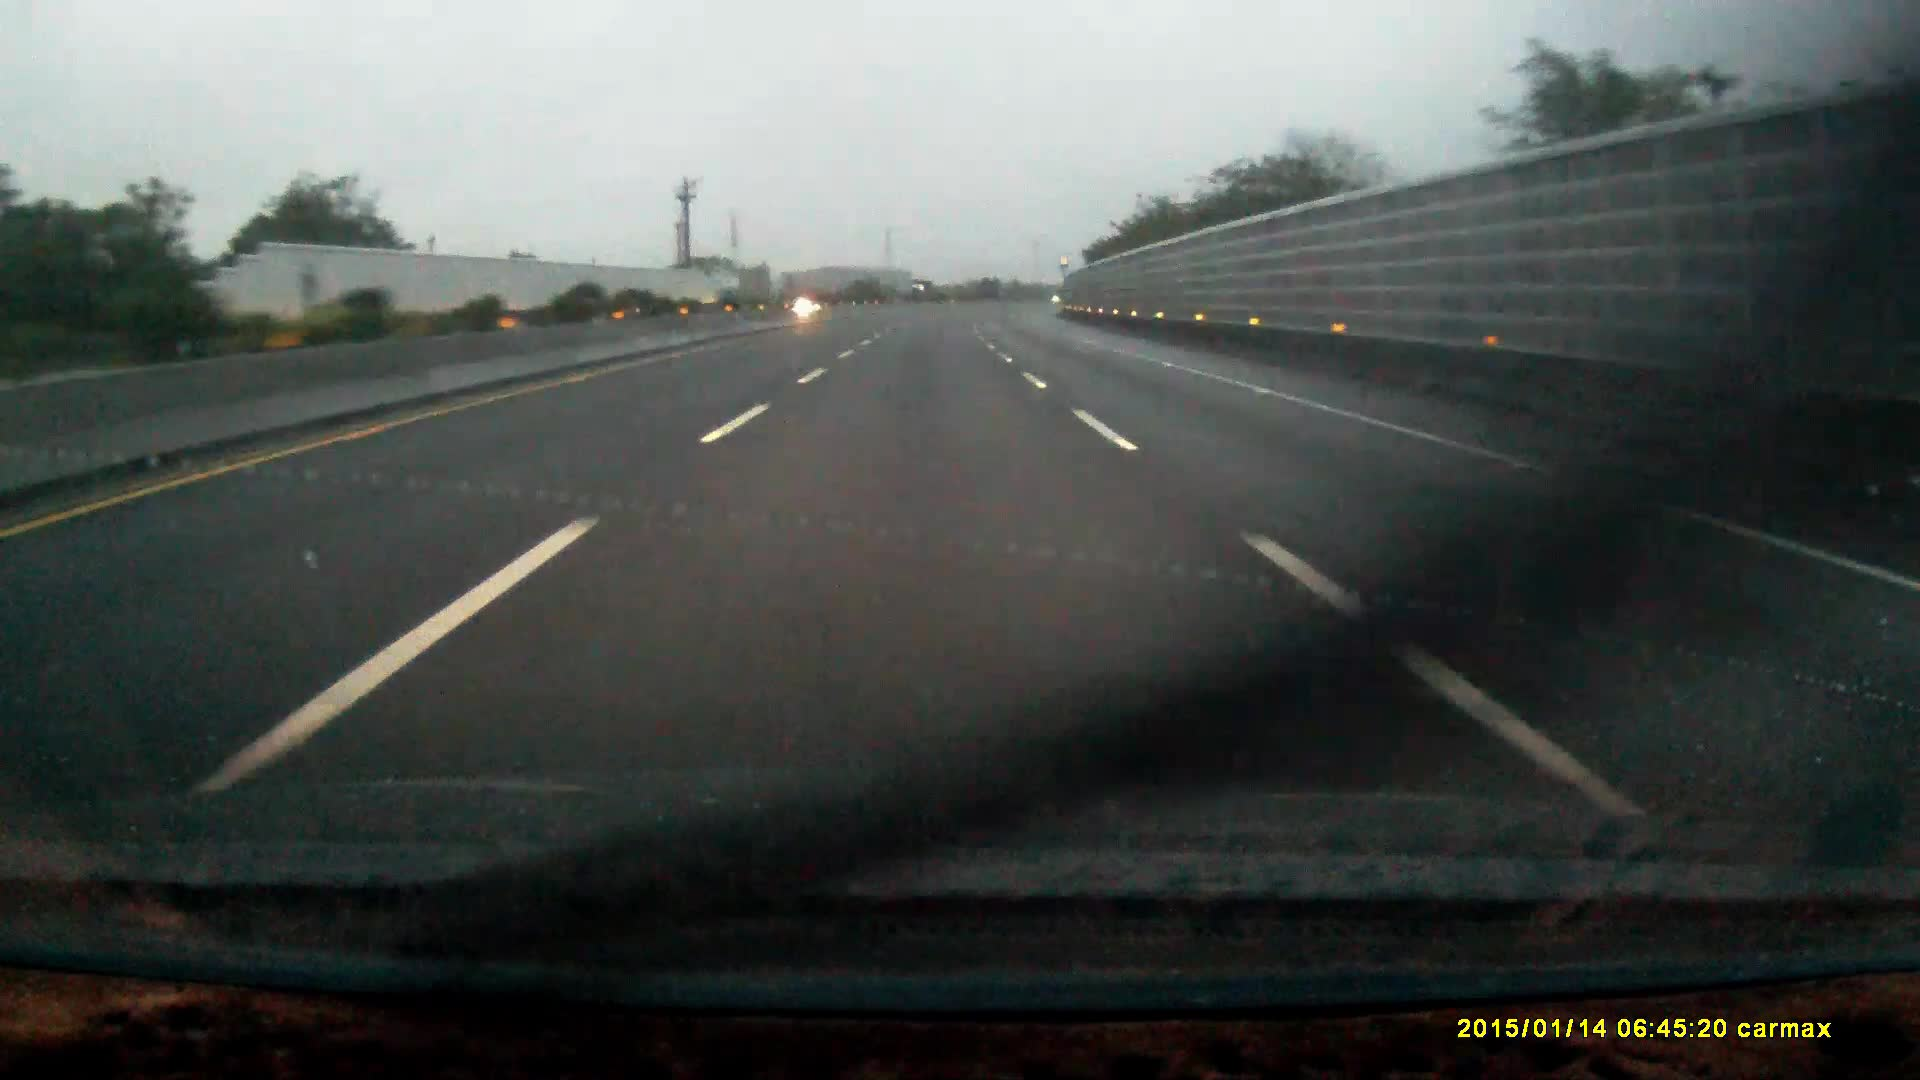vehicle: (909, 280, 934, 302)
